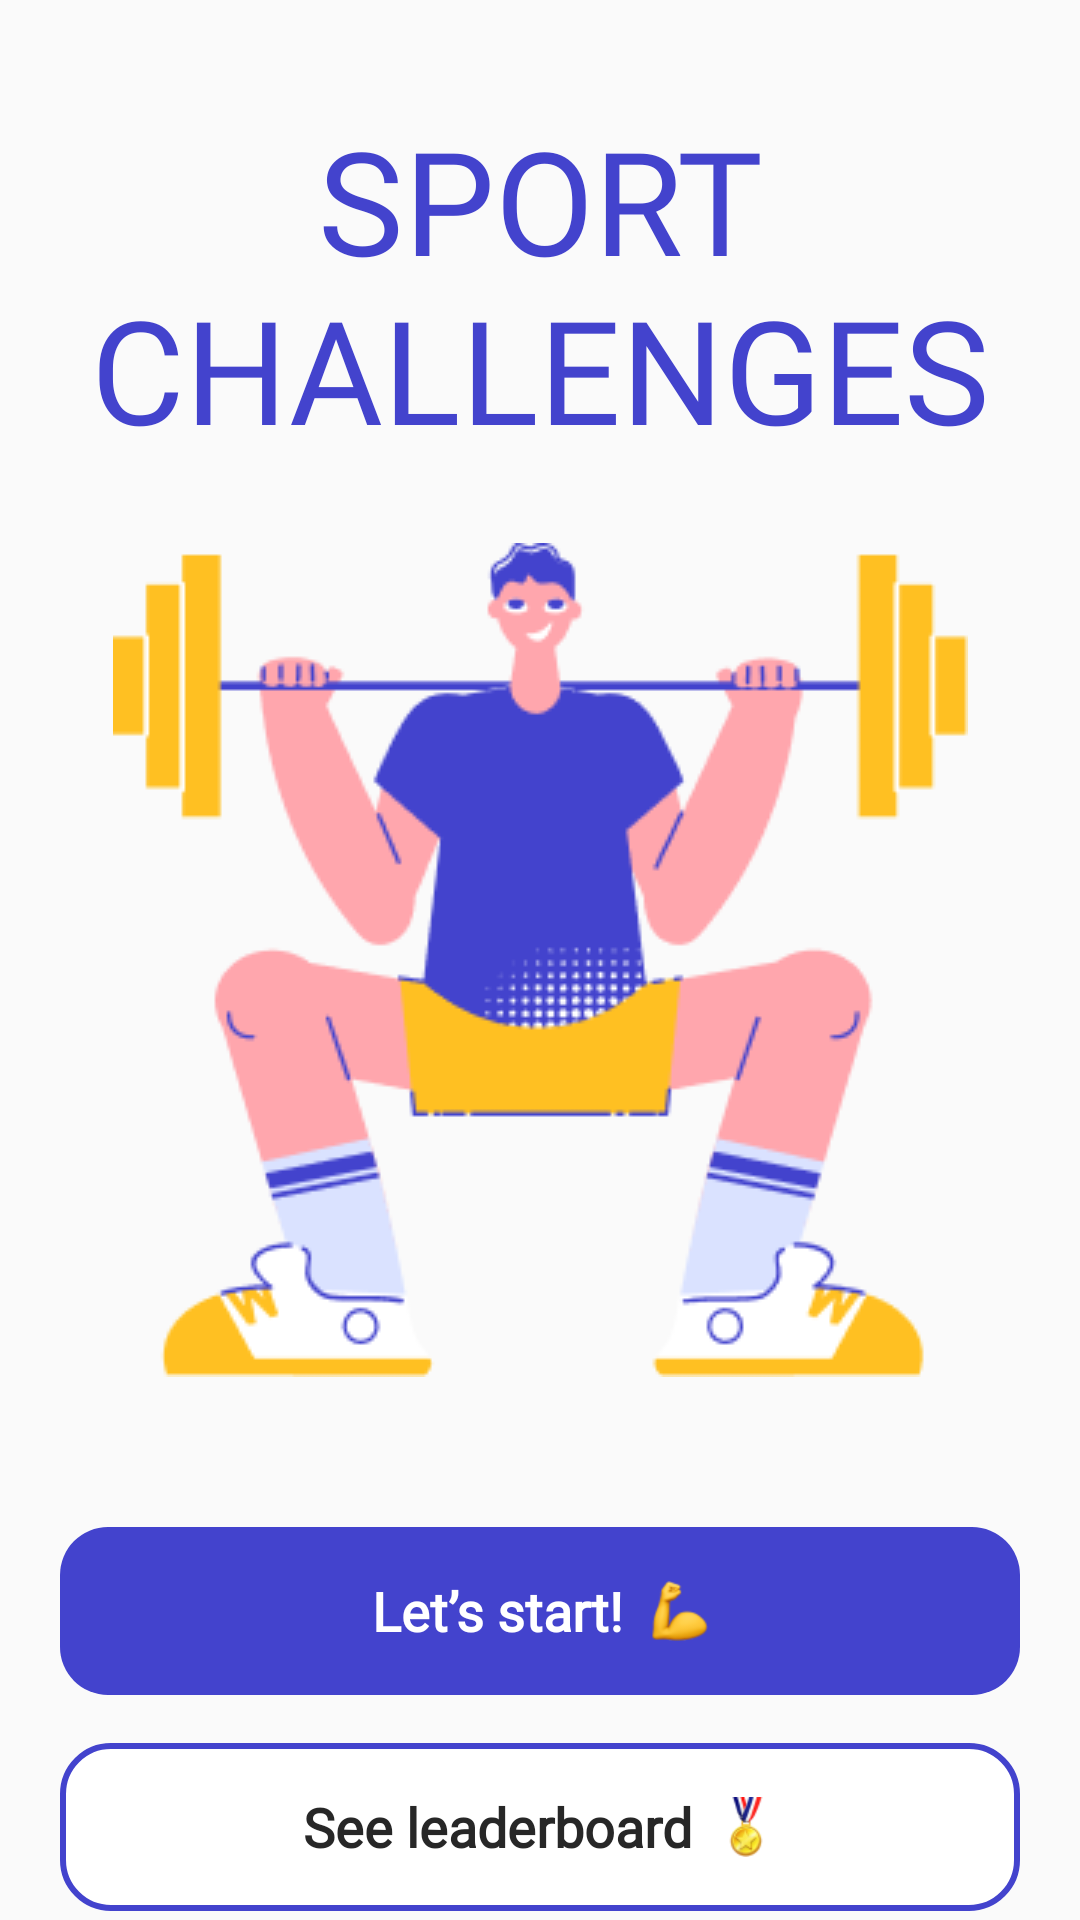

Named icons in this screenshot (1080px×1920px) and their centers, point (x, y):
strong: point (679, 1611)
